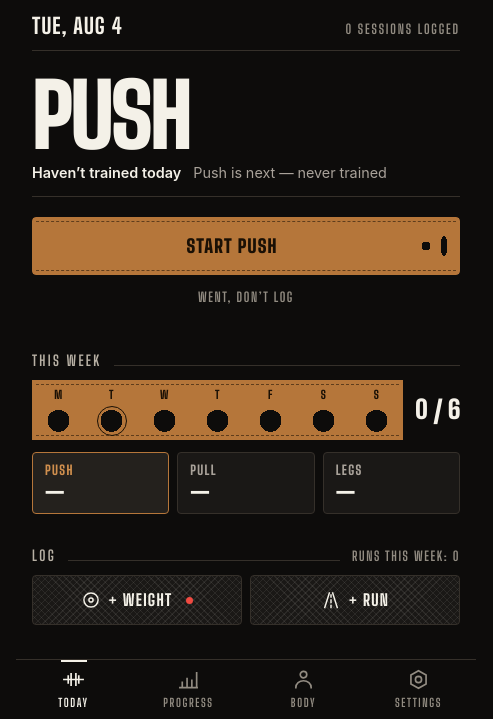
attendance without a logged workout › counts a manual gym visit and can undo it
This screenshot has width=493, height=719.
Click the button "went, don’t log": (246, 297) 32,275 -> 460,319
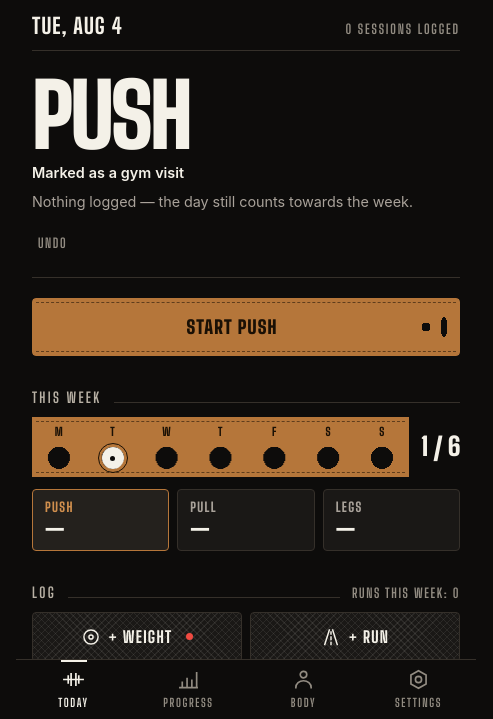
Expected: the text "Marked as a gym visit" is shown, 32,164 -> 184,184
Expected: the text "1 / 6" is shown, 421,434 -> 460,460
Click the button "undo": (53, 243) 32,221 -> 73,265
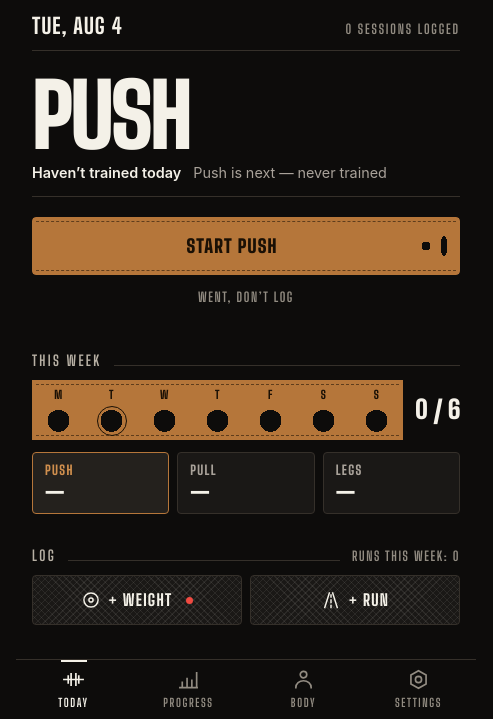
Expected: the text "Haven’t trained today" is shown, 32,164 -> 181,184
Expected: the text "0 / 6" is shown, 415,397 -> 460,423
